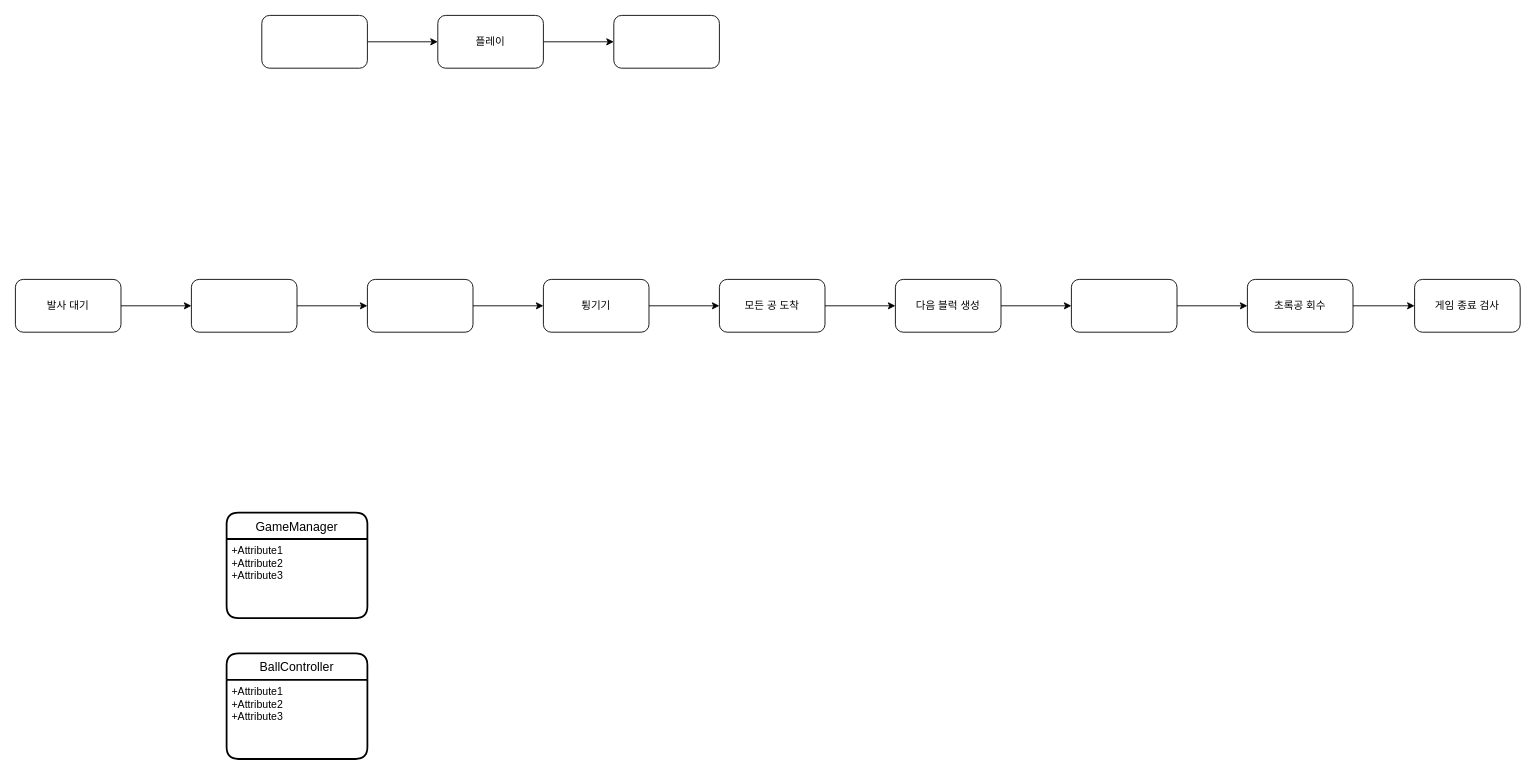
Image size: 1536x775. Some labels were removed from this diagram. Here are the shapes that lost their labels. From the top down, the centre of each, then its label:
At [314,41]: "타이틀".
At [666,41]: "종료".
At [244,305]: "조준".
At [420,305]: "발사".
At [1124,305]: "현재 블럭 및 초록공 모두 내리기".
